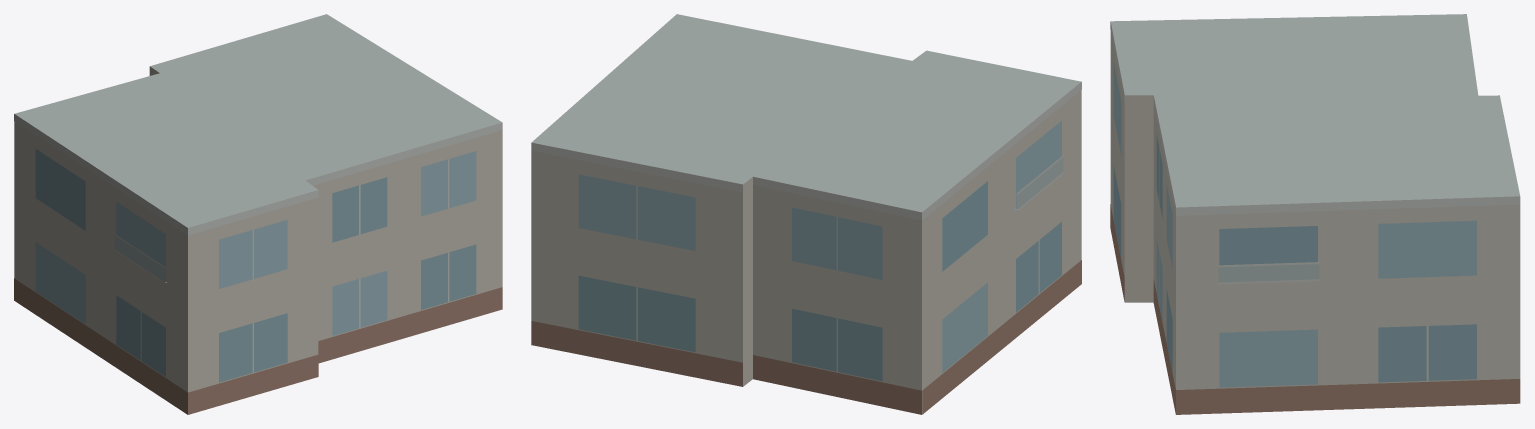
Rendered from survey-upis-32570053.glb.
3 views of the same model, side by side, from view 1: azimuth 30°, elevation 25°; view 2: azimuth 150°, elevation 25°; view 3: azimuth 270°, elevation 25° (orthographic). The views are drawn at different scales.
Parts seen in each view (by area): view 1: survey-upis-32570053.tmp; view 2: survey-upis-32570053.tmp; view 3: survey-upis-32570053.tmp.
Part boxes in pixels (x1,y1,x2,y2): survey-upis-32570053.tmp: (14,14,502,414); survey-upis-32570053.tmp: (531,14,1081,414); survey-upis-32570053.tmp: (1110,14,1520,414).
Size of the model in its own units: 12.22 by 6.1 by 10.93.
